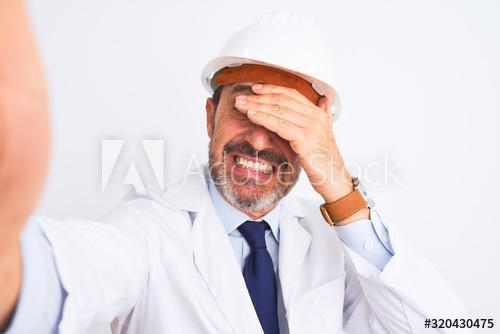helmet: (201, 11, 342, 120)
